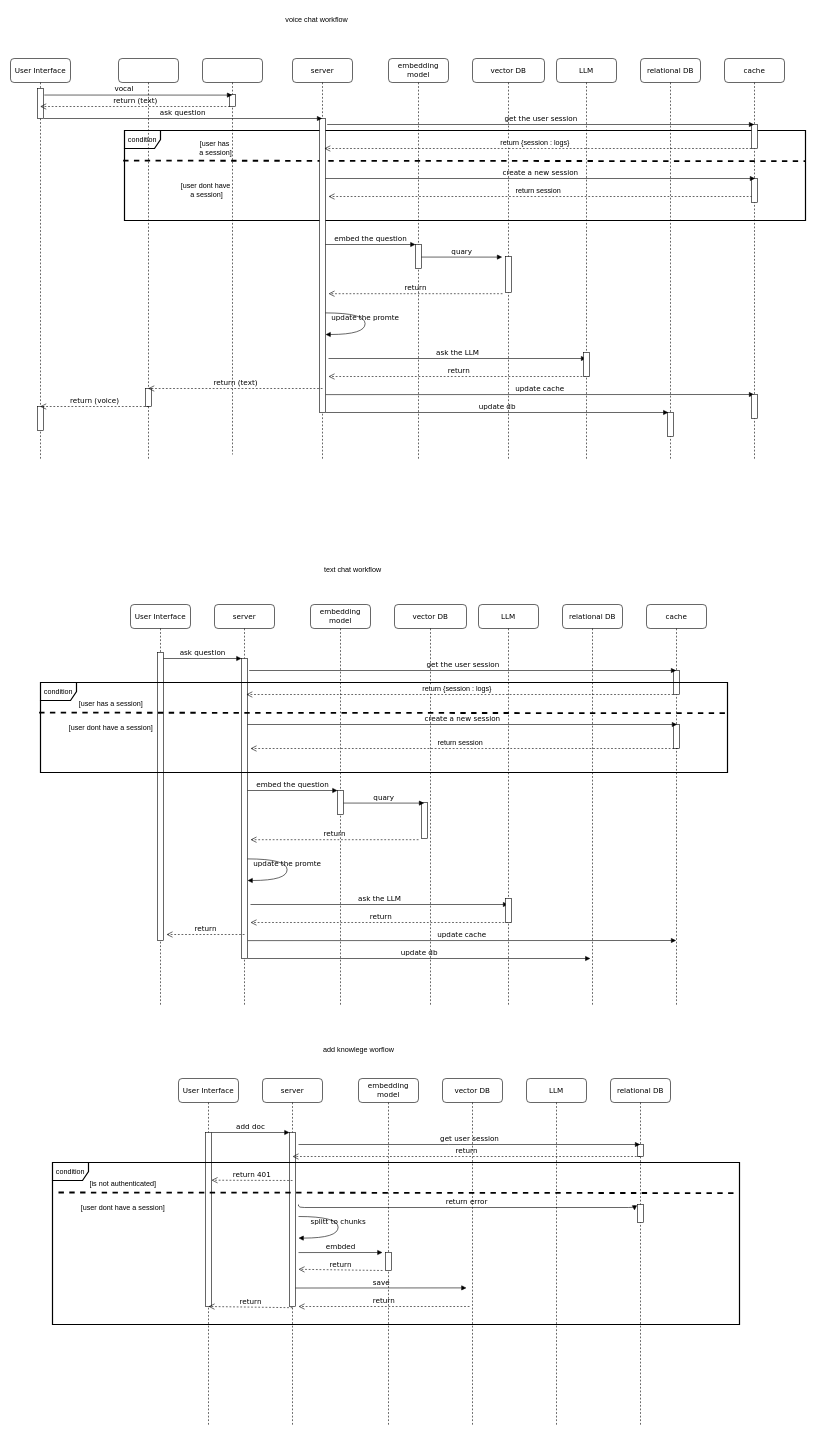
Some shapes in this 817 by 1437 pixel diagram are drawn without their labels. Here are the shapes that lost their labels. From the top down, the box of each, then its label:
(118, 58, 178, 460): text to speach model
(202, 58, 262, 454): speach to text model
